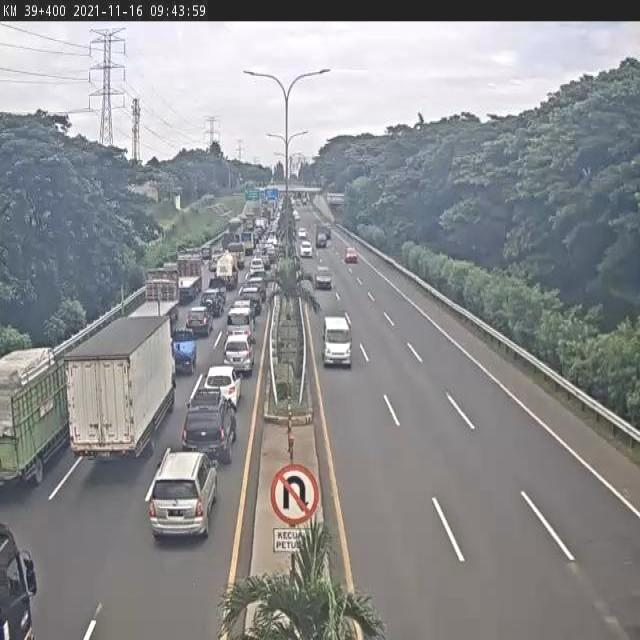Car: (150, 449, 219, 541), (181, 385, 238, 464), (201, 364, 243, 407), (222, 333, 258, 379), (186, 306, 214, 336), (197, 287, 225, 314), (237, 285, 264, 312), (313, 266, 334, 291), (248, 258, 264, 277), (300, 239, 314, 257), (345, 246, 358, 262), (298, 228, 308, 240)
Truck: (64, 313, 181, 460), (0, 344, 69, 490), (0, 520, 38, 640), (127, 266, 183, 324), (172, 252, 202, 300), (216, 247, 239, 292), (241, 229, 256, 254), (226, 216, 242, 238), (315, 223, 328, 249)
Van: (322, 315, 352, 370), (226, 306, 256, 338)
